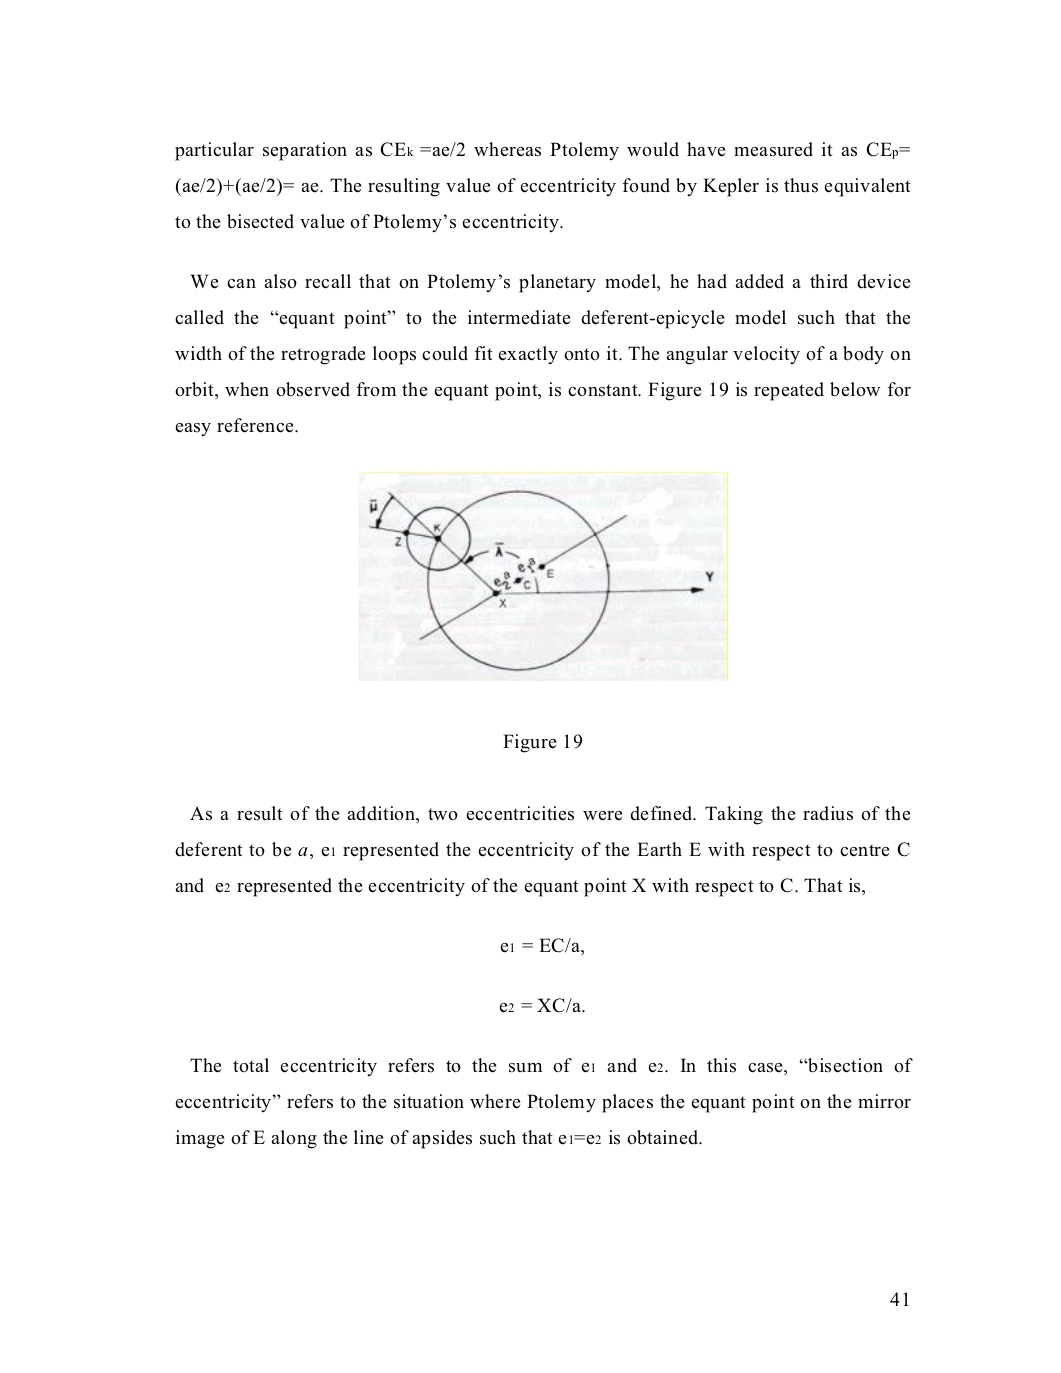figure: (358, 471, 728, 681)
formula: (500, 937, 583, 956), (499, 997, 584, 1013)
